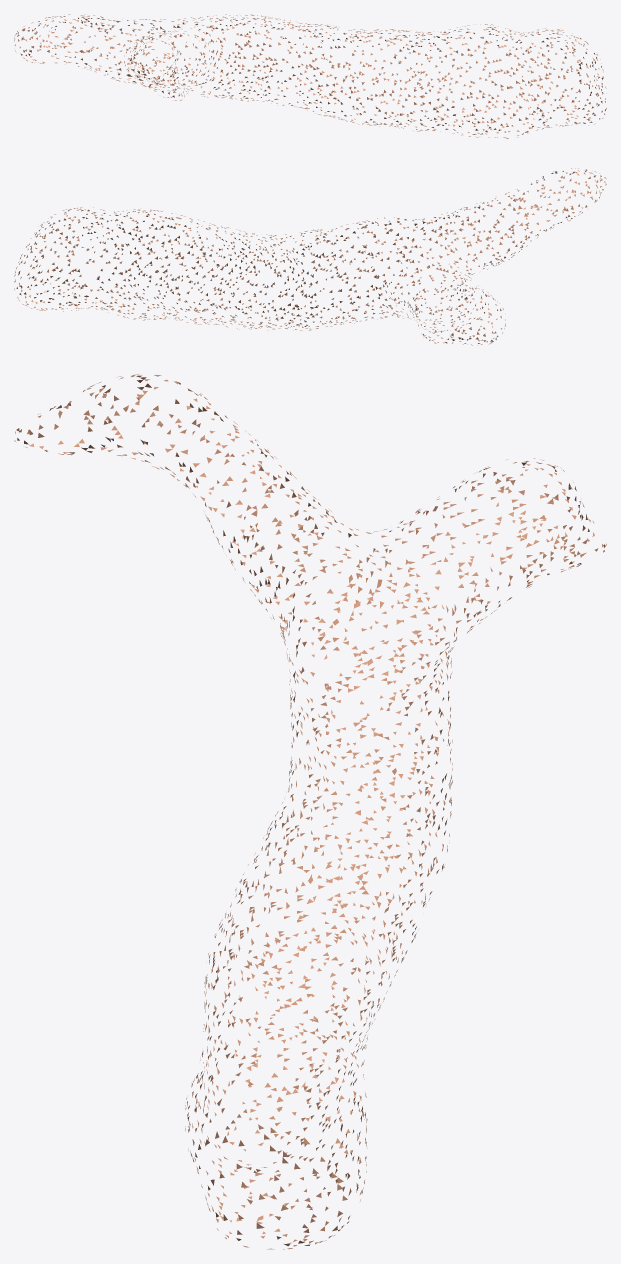
File: morph_004.glb
The picture shows the model from 3 angles, top to bottom: view 1: azimuth 30°, elevation 25°; view 2: azimuth 150°, elevation 25°; view 3: azimuth 270°, elevation 25°; orthographic projection. The views are drawn at different scales.
Bounding box in the file's own units: 126 × 50.35 × 64.01.
